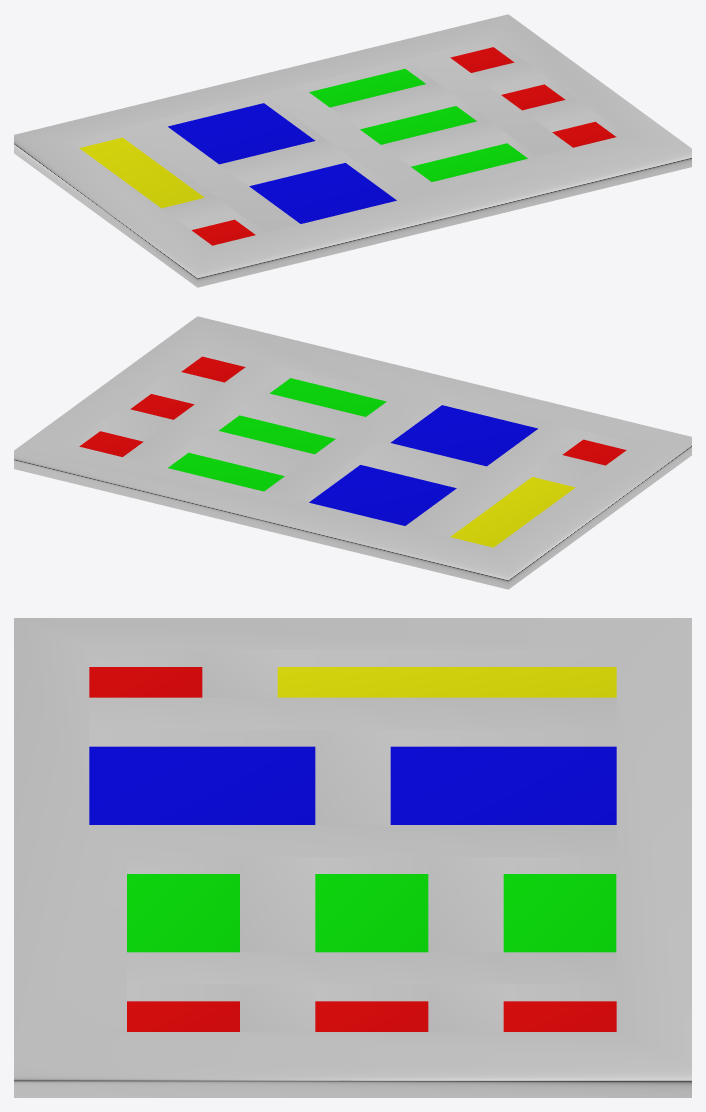
File: kit4.fbx
3 renders of one model, top to bottom at view 1: azimuth 30°, elevation 25°; view 2: azimuth 150°, elevation 25°; view 3: azimuth 270°, elevation 25°, orthographic. The views are drawn at different scales.
Parts seen in each view (by area): view 1: Cube; view 2: Cube; view 3: Cube.
Part boxes in pixels (x1,y1,x2,y2): Cube: [14, 14, 691, 287]; Cube: [14, 316, 691, 589]; Cube: [14, 618, 691, 1097].
Size of the model in its own units: 178 by 6.35 by 114.
